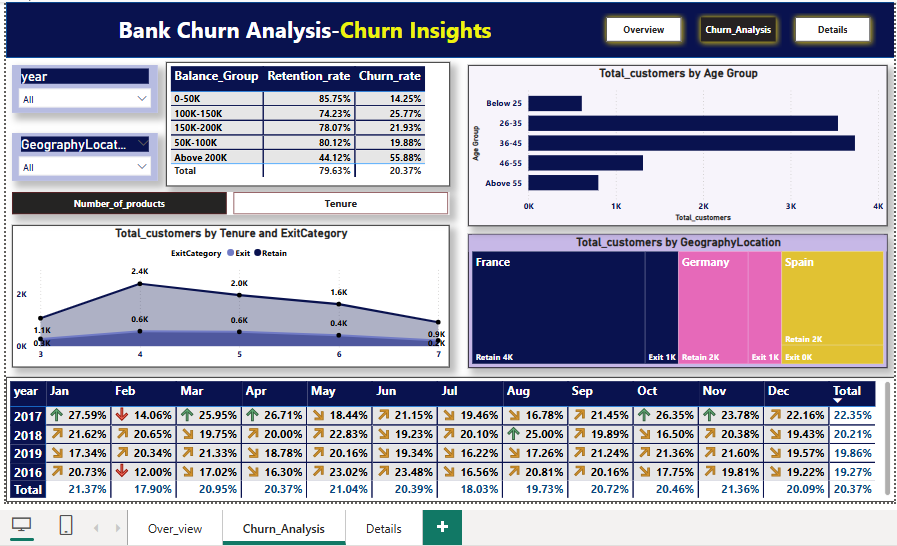

What the dashboard file says about the page in this screenshot:
{"tool":"powerbi","page":{"name":"Churn_Analysis","canvas":[1280,720],"ordinal":1},"visuals":[{"type":"pivotTable","title":"Churn Percentage by Year and Month","fields":{"Rows":["Date_Master.year"],"Columns":["Date_Master.Month_name"],"Values":["Calculations.Churn %"]},"box":[0,540.5,1280,179.8],"z":0},{"type":"treemap","title":"Total_customers by GeographyLocation ","fields":{"Group":["Geography.GeographyLocation"],"Values":["Calculations.Total_customers"],"Details":["Exit_customers.ExitCategory"]},"box":[664.7,334.2,604.4,193],"z":1000},{"type":"barChart","fields":{"Category":["Bank_Churn.Age Group"],"Y":["Calculations.Total_customers"]},"box":[664.7,90.5,604.4,231.6],"z":2000},{"type":"shape","box":[0,0,1280.3,80.6],"z":3000},{"type":"slicer","fields":{"Values":["Date_Master.year"]},"box":[8.4,90.5,209.9,68.8],"z":4000},{"type":"slicer","fields":{"Values":["Geography.GeographyLocation"]},"box":[8.4,188.2,209.9,68.8],"z":5000},{"type":"areaChart","fields":{"Category":["Bank_Churn.Tenure"],"Y":["Calculations.Total_customers"],"Series":["Exit_customers.ExitCategory"]},"box":[8.6,321.6,629.8,205.4],"z":6000},{"type":"tableEx","fields":{"Values":["Bank_Churn.Balance_Group","Calculations.Retention_rate","Calculations.Churn_rate"]},"box":[230.4,86.9,409,178.6],"z":7000},{"type":"bookmarkNavigator","box":[8.4,273.9,629.8,32.6],"z":9000},{"type":"textbox","box":[157,11.5,659.5,57.6],"z":10000},{"type":"bookmarkNavigator","box":[855.4,13,398.9,53.3],"z":11000}]}

Visuals, with their boxes in screenshot pixels (x1, y1, x2, y2):
"Churn Percentage by Year and Month" pivotTable: bbox(5, 374, 889, 498)
"Total_customers by GeographyLocation " treemap: bbox(464, 231, 882, 364)
barChart - Bank_Churn.Age Group x Calculations.Total_customers: bbox(464, 63, 882, 223)
shape: bbox(5, 0, 889, 56)
slicer - Date_Master.year: bbox(10, 63, 156, 110)
slicer - Geography.GeographyLocation: bbox(10, 130, 156, 178)
areaChart - Bank_Churn.Tenure x Calculations.Total_customers: bbox(11, 222, 446, 364)
tableEx - Bank_Churn.Balance_Group x Calculations.Retention_rate: bbox(164, 60, 447, 183)
bookmarkNavigator: bbox(10, 189, 446, 212)
textbox: bbox(113, 8, 569, 48)
bookmarkNavigator: bbox(596, 9, 872, 46)
